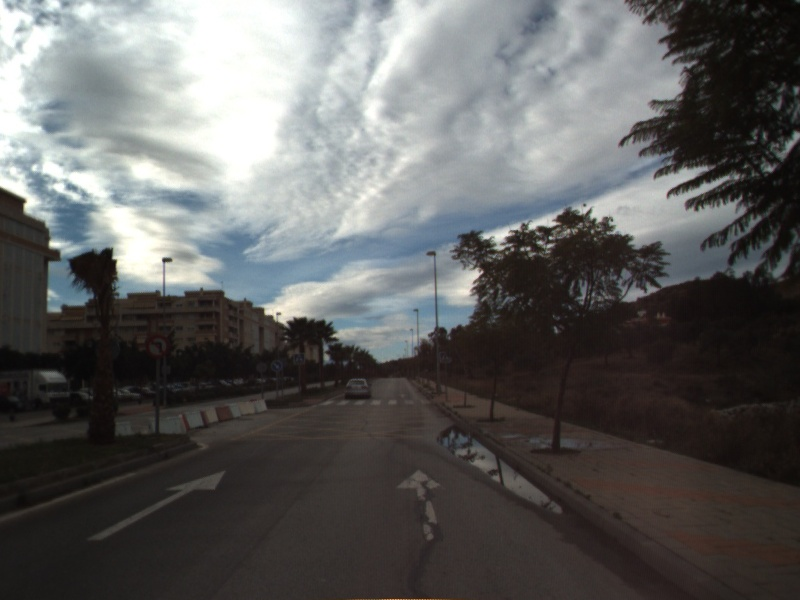STRAIGHT: (85, 468, 228, 542), (393, 467, 449, 544)
